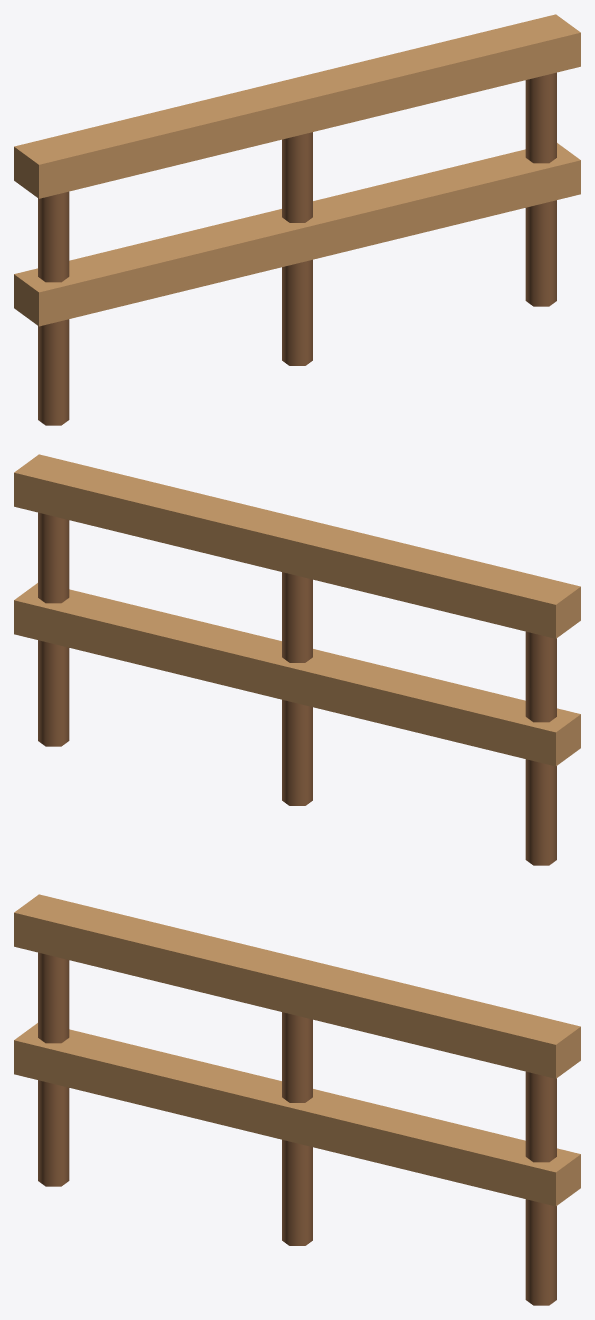
File: halfWall.glb
The picture shows the model from 3 angles, top to bottom: view 1: azimuth 30°, elevation 25°; view 2: azimuth 150°, elevation 25°; view 3: azimuth 330°, elevation 25°; orthographic projection.
Bounding box in the file's own units: 2 × 0.955 × 0.16.
